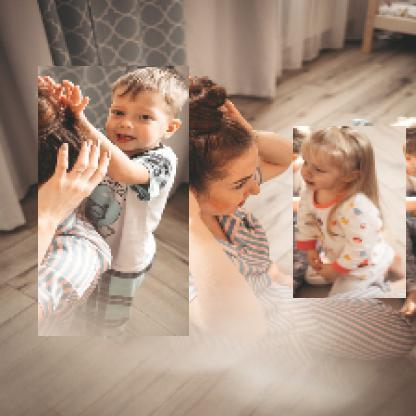child: (39, 67, 191, 338), (294, 127, 408, 300)
